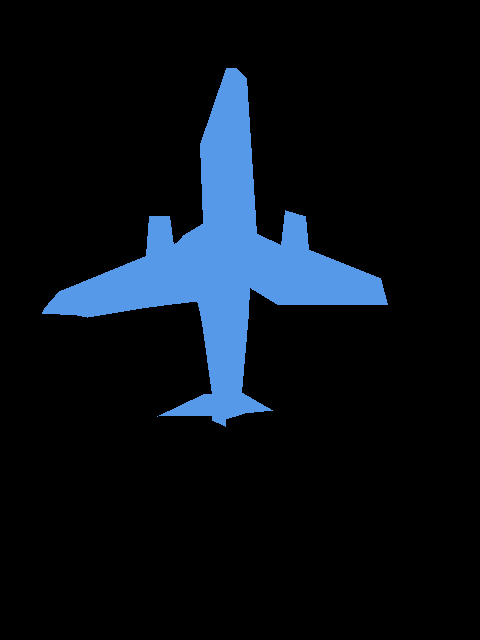Airplane: (42, 68, 388, 426)
